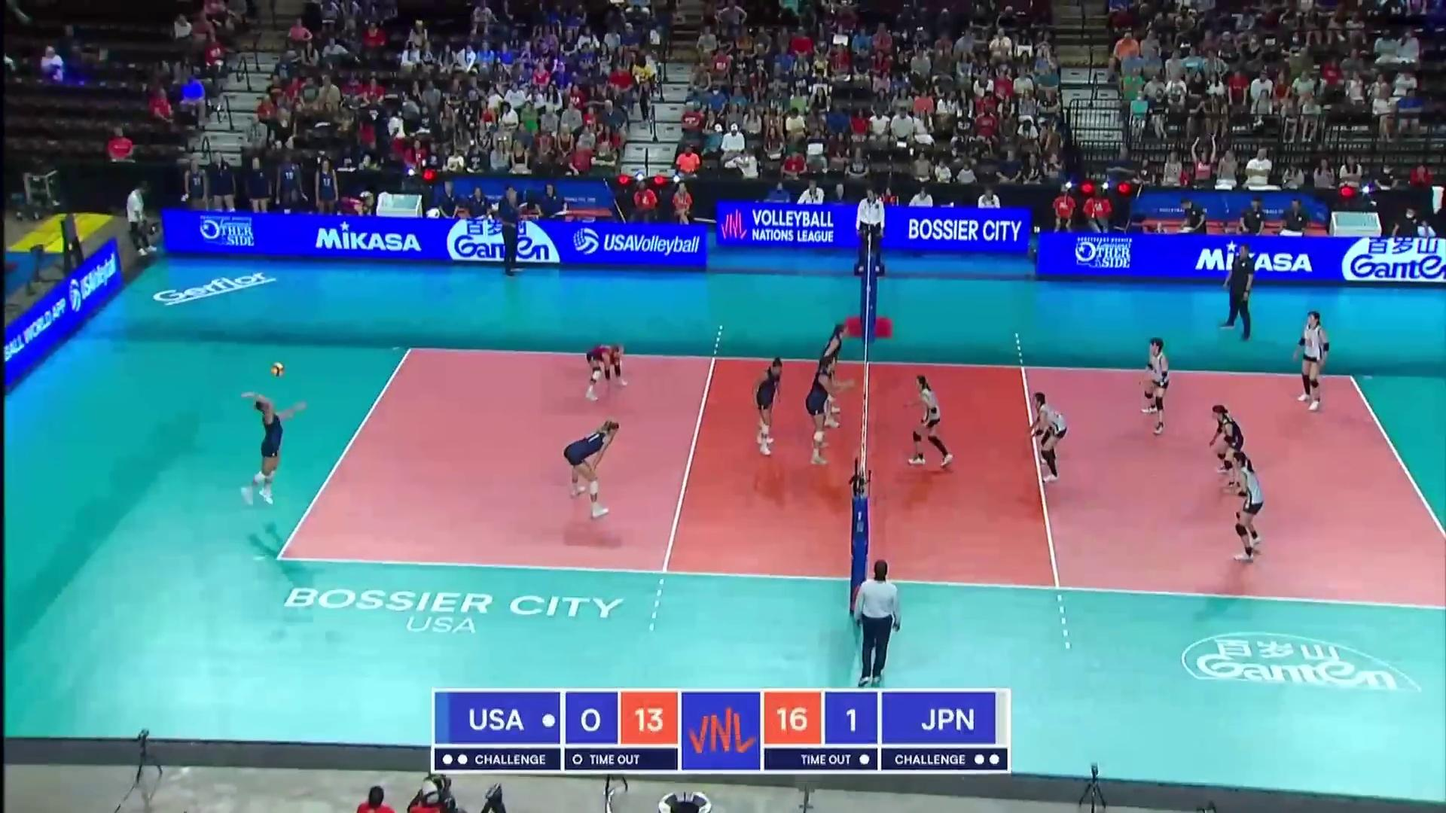player: (242, 392, 307, 509), (562, 419, 620, 519), (805, 356, 853, 464), (907, 376, 954, 467), (1230, 452, 1264, 562), (1295, 310, 1330, 411), (819, 323, 852, 427), (1030, 393, 1067, 485), (752, 356, 783, 455), (1141, 339, 1172, 437), (1210, 405, 1245, 491), (585, 342, 629, 399)
refree: (853, 559, 902, 688), (856, 188, 886, 273)
